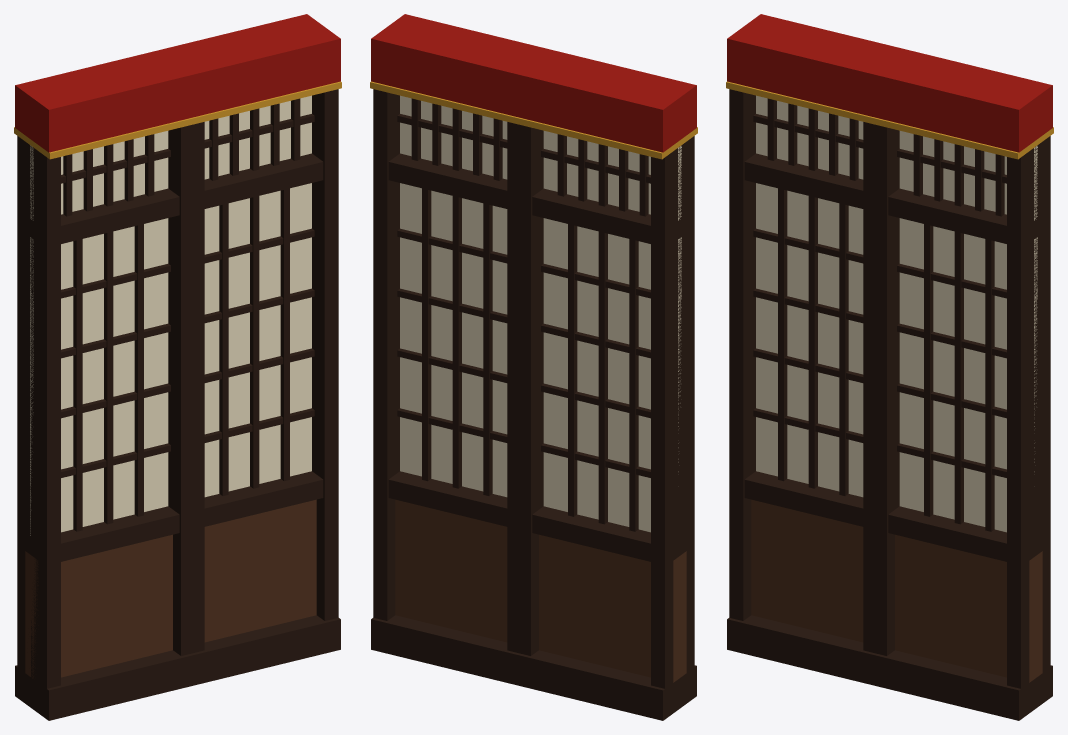
File: SM_Bld_Shoji_Wall_Half_01.fbx
3 views of the same model, side by side, from view 1: azimuth 30°, elevation 25°; view 2: azimuth 150°, elevation 25°; view 3: azimuth 330°, elevation 25° (orthographic).
Visible parts, largest first — view 1: SM_Bld_Shoji_Wall_Half_01; view 2: SM_Bld_Shoji_Wall_Half_01; view 3: SM_Bld_Shoji_Wall_Half_01.
Boxes of the visible parts, x1,y1,x2,y2 form: SM_Bld_Shoji_Wall_Half_01: (14,14,341,720); SM_Bld_Shoji_Wall_Half_01: (370,14,697,720); SM_Bld_Shoji_Wall_Half_01: (726,14,1053,720).
Size of the model in its own units: 2.5 by 5 by 0.53.
Materials: 2 (2 with a texture image).
